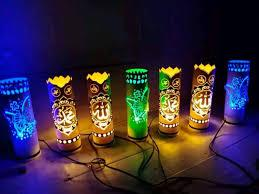Lamp: (0, 67, 41, 161), (41, 74, 86, 155), (86, 67, 116, 154), (124, 61, 154, 141), (187, 57, 219, 131), (222, 53, 254, 125), (156, 65, 184, 136)
